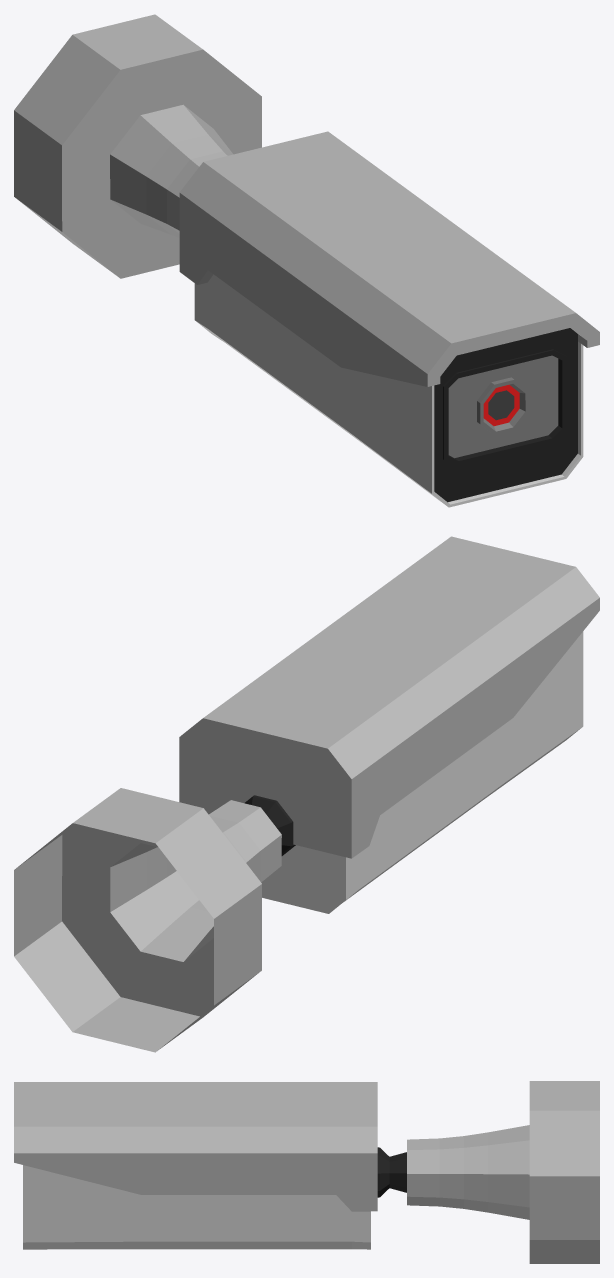
Rendered from Int_CCTVCamera01.fbx.
3 renders of one model, top to bottom at view 1: azimuth 30°, elevation 25°; view 2: azimuth 150°, elevation 25°; view 3: azimuth 270°, elevation 25°, orthographic. The views are drawn at different scales.
Visible parts, largest first — view 1: Int_CCTVCamera01, Int_CCTVCameraHolder01; view 2: Int_CCTVCamera01, Int_CCTVCameraHolder01; view 3: Int_CCTVCamera01, Int_CCTVCameraHolder01.
Boxes of the visible parts, x1=… form: Int_CCTVCamera01: x1=179, y1=131, x2=599, y2=507; Int_CCTVCameraHolder01: x1=14, y1=14, x2=261, y2=278; Int_CCTVCamera01: x1=179, y1=536, x2=599, y2=913; Int_CCTVCameraHolder01: x1=14, y1=788, x2=295, y2=1052; Int_CCTVCamera01: x1=14, y1=1082, x2=377, y2=1249; Int_CCTVCameraHolder01: x1=377, y1=1081, x2=599, y2=1263.
Size of what is drawn, in the model's own units: 11.35 by 39.31 by 11.35.
